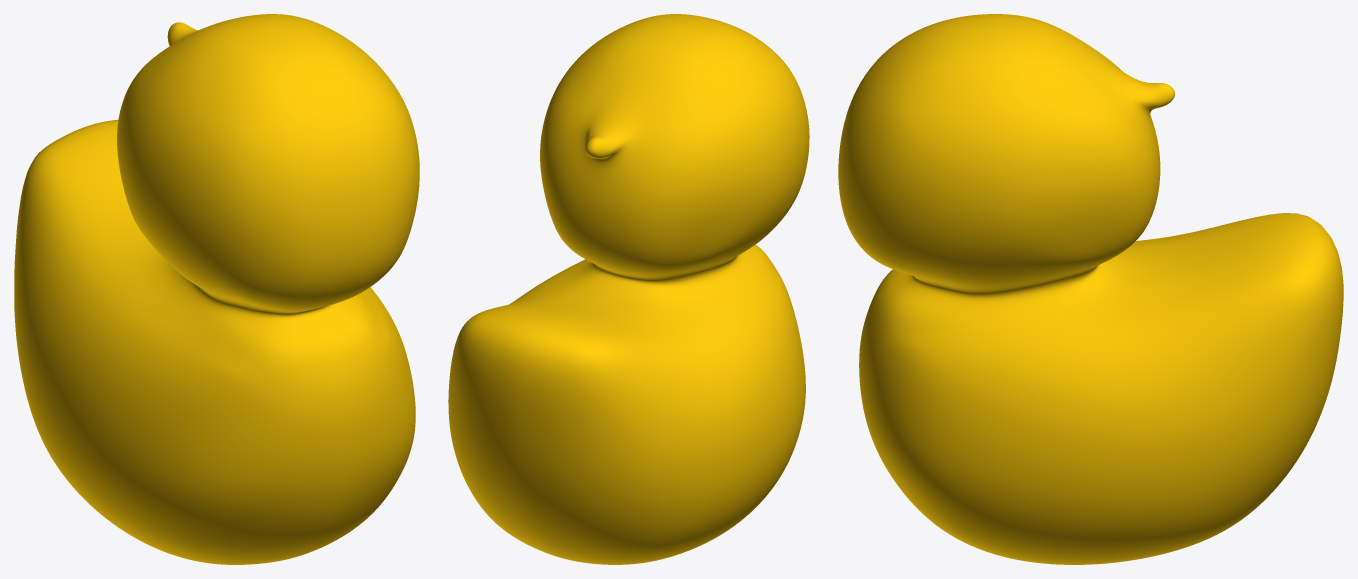
The model's file is NoLod_1.glb.
The picture shows the model from 3 angles, left to right: view 1: azimuth 30°, elevation 25°; view 2: azimuth 150°, elevation 25°; view 3: azimuth 270°, elevation 25°; orthographic projection. The views are drawn at different scales.
Visible parts, largest first — view 1: rtc; view 2: rtc; view 3: rtc.
Boxes of the visible parts, <box> form: rtc: <box>14,14,419,564</box>; rtc: <box>448,14,809,564</box>; rtc: <box>838,14,1343,564</box>.
Size of the model in its own units: 3.19 by 5.41 by 4.8.
